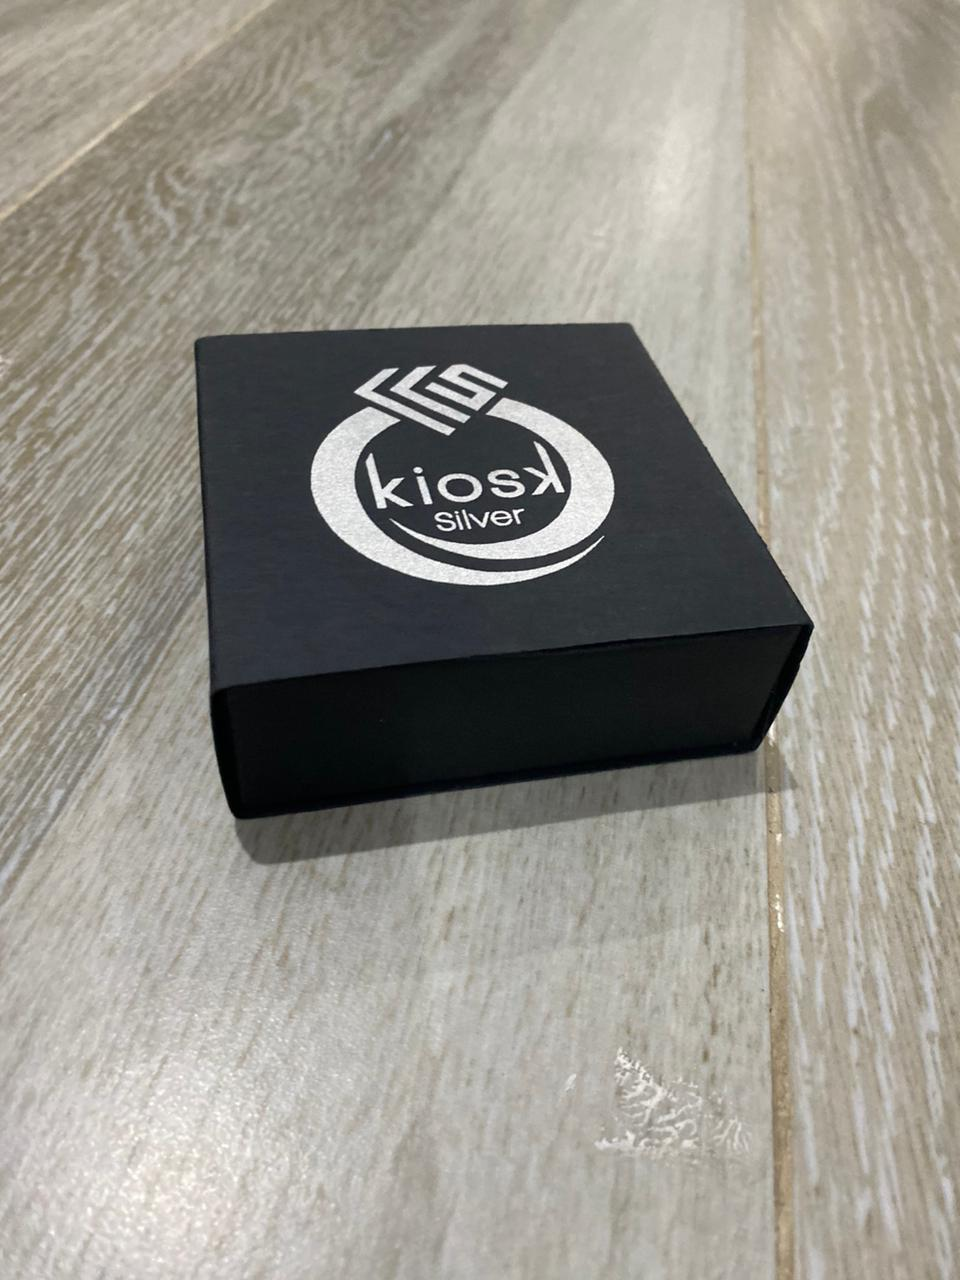Red Box: (187, 322, 814, 826)
